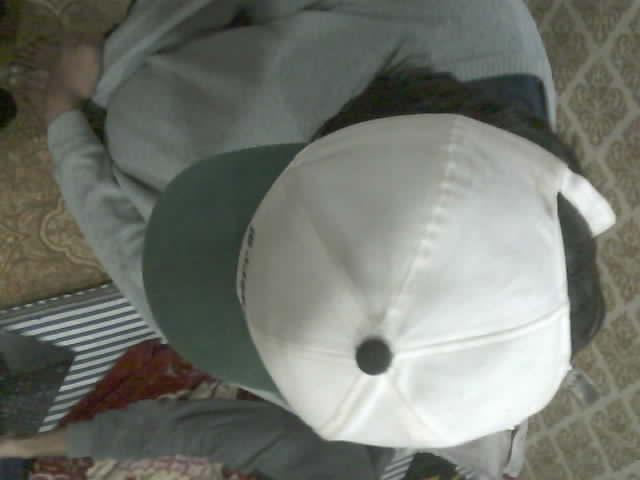cap: (143, 113, 616, 448)
